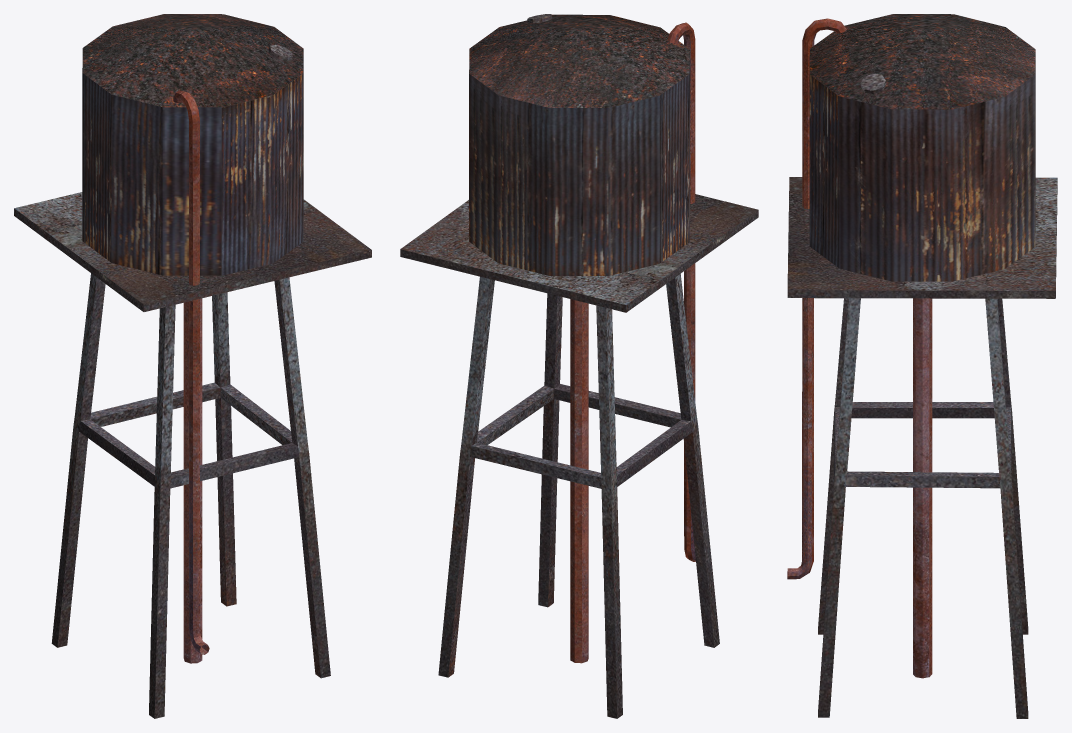
The model's file is Watertank_2.fbx.
3 views of the same model, side by side, from view 1: azimuth 30°, elevation 25°; view 2: azimuth 150°, elevation 25°; view 3: azimuth 270°, elevation 25° (orthographic). The views are drawn at different scales.
Visible parts, largest first — view 1: Water_Tank_2; view 2: Water_Tank_2; view 3: Water_Tank_2.
Part boxes in pixels (left/top/right/bottom): Water_Tank_2: left=14, top=14, right=371, bottom=718; Water_Tank_2: left=400, top=14, right=758, bottom=718; Water_Tank_2: left=787, top=14, right=1057, bottom=718.
Bounding box in the file's own units: 33.61 × 88.35 × 33.64.
Materials: 2 (1 with a texture image).
